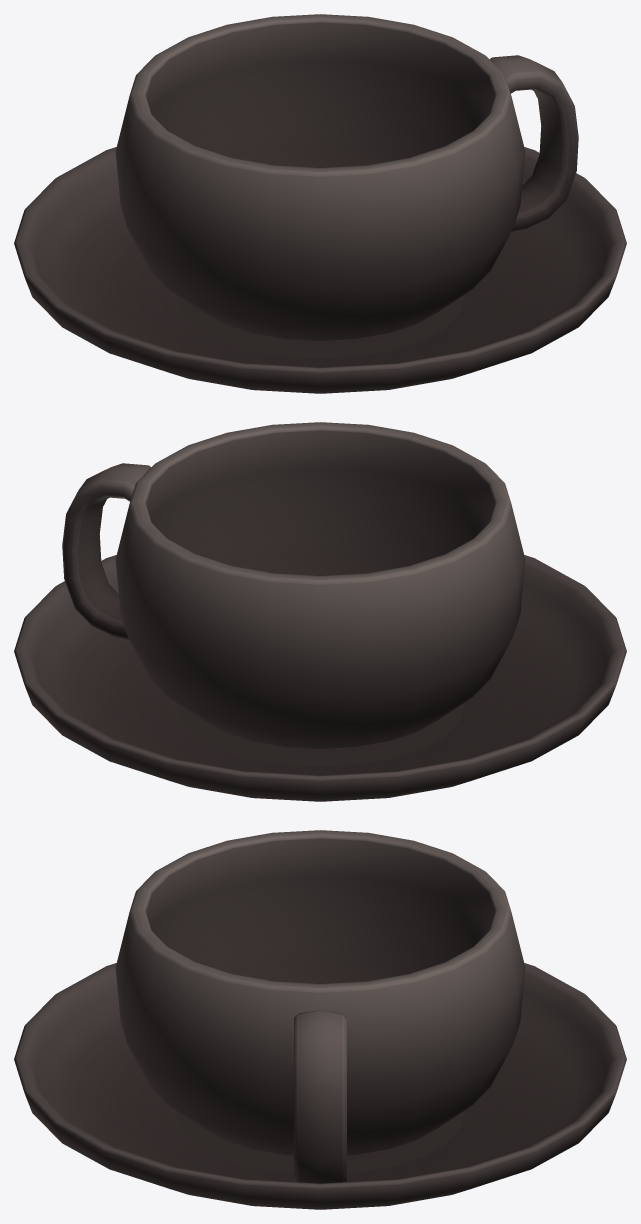
Rendered from cup_002.fbx.
3 views of the same model, one above another, from view 1: azimuth 30°, elevation 25°; view 2: azimuth 150°, elevation 25°; view 3: azimuth 270°, elevation 25° (orthographic).
Visible parts, largest first — view 1: cup_002; view 2: cup_002; view 3: cup_002.
Part boxes in pixels (x1,y1,x2,y2): cup_002: (14, 14, 626, 393); cup_002: (14, 422, 626, 801); cup_002: (14, 830, 626, 1209).
Bounding box in the file's own units: 14.3 × 14.3 × 5.46.
